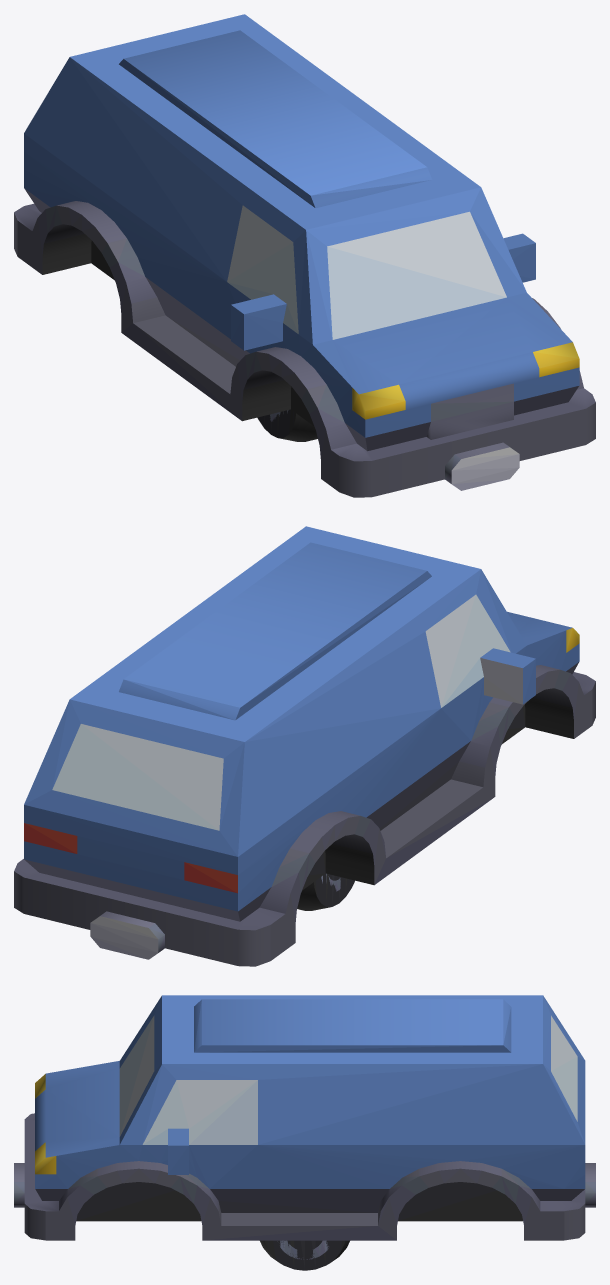
The model's file is van.glb.
3 renders of one model, top to bottom at view 1: azimuth 30°, elevation 25°; view 2: azimuth 150°, elevation 25°; view 3: azimuth 270°, elevation 25°, orthographic. The views are drawn at different scales.
Visible parts, largest first — view 1: body_paint, trim, wheel_right; view 2: body_paint, trim, wheel_right; view 3: body_paint, trim, wheel_left, wheel_right.
Part boxes in pixels (<box>): body_paint: <box>24,14,579,437</box>; trim: <box>14,188,595,497</box>; wheel_right: <box>257,409,316,441</box>; body_paint: <box>24,526,579,911</box>; trim: <box>14,594,595,966</box>; wheel_right: <box>297,873,354,910</box>; body_paint: <box>35,995,585,1188</box>; trim: <box>14,1015,595,1240</box>; wheel_left: <box>260,1240,349,1270</box>; wheel_right: <box>277,1240,328,1259</box>.
Size of the model in its own units: 2.1 by 2.06 by 4.5.
